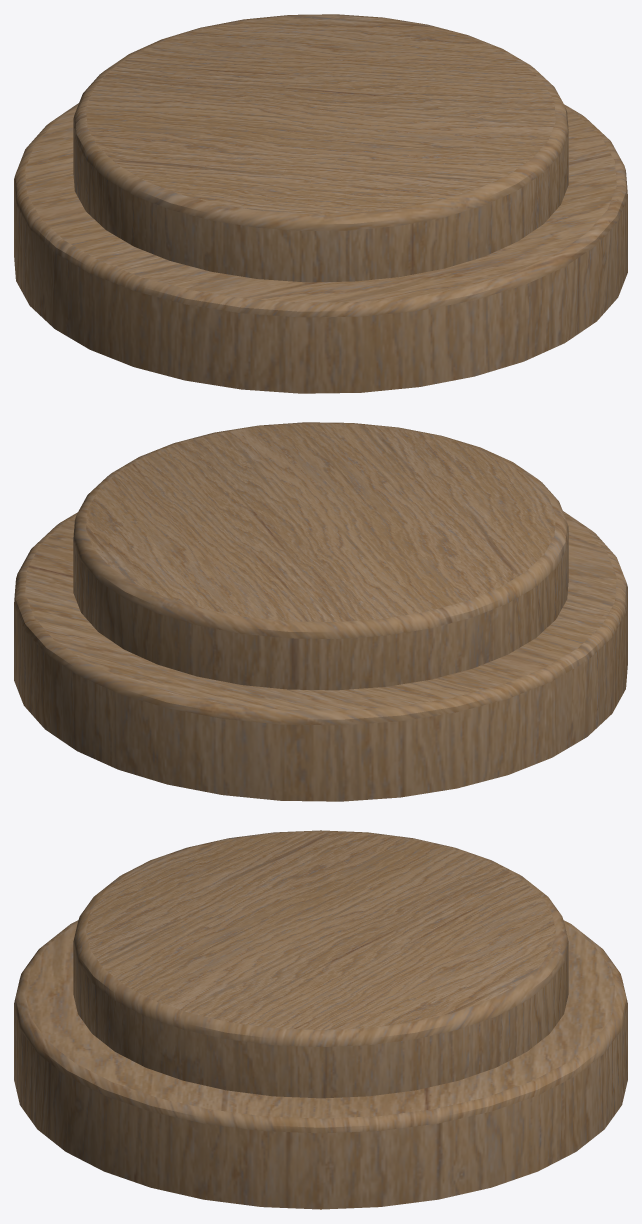
File: plataforma.fbx
3 renders of one model, top to bottom at view 1: azimuth 30°, elevation 25°; view 2: azimuth 150°, elevation 25°; view 3: azimuth 270°, elevation 25°, orthographic.
Visible parts, largest first — view 1: Cylinder; view 2: Cylinder; view 3: Cylinder.
Boxes of the visible parts, x1,y1,x2,y2 form: Cylinder: (14, 14, 627, 393); Cylinder: (14, 422, 627, 801); Cylinder: (14, 830, 627, 1209).
Bounding box in the file's own units: 504 × 135 × 504.
